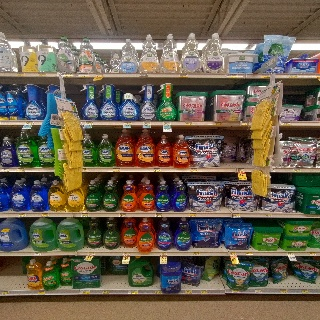All PRICE TAGS: (80, 289, 89, 294), (183, 290, 192, 294), (128, 290, 137, 294), (112, 167, 121, 171), (154, 290, 162, 294), (96, 73, 104, 77), (85, 121, 93, 125), (153, 167, 161, 171), (155, 213, 163, 217), (200, 290, 207, 294), (102, 290, 109, 294), (160, 252, 167, 256), (80, 167, 87, 171), (119, 213, 126, 217), (88, 251, 95, 255), (123, 122, 131, 125), (163, 122, 171, 125), (213, 122, 221, 125), (123, 252, 130, 255), (143, 122, 150, 125), (186, 122, 193, 125)
